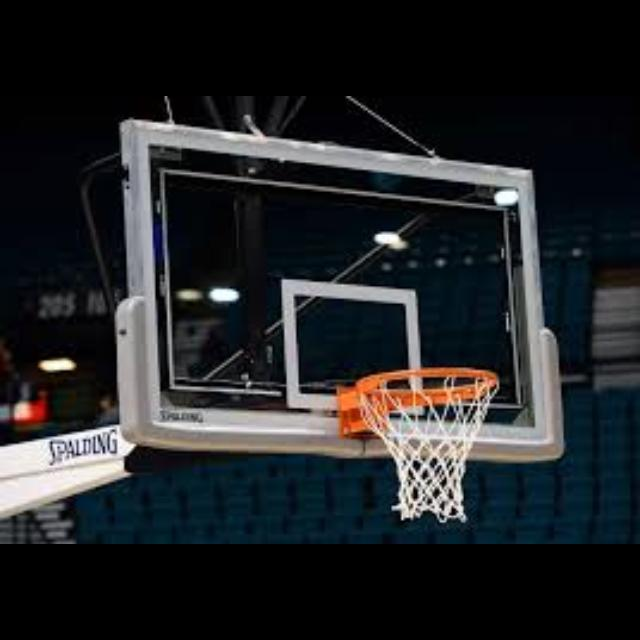rim: (358, 368, 498, 522)
